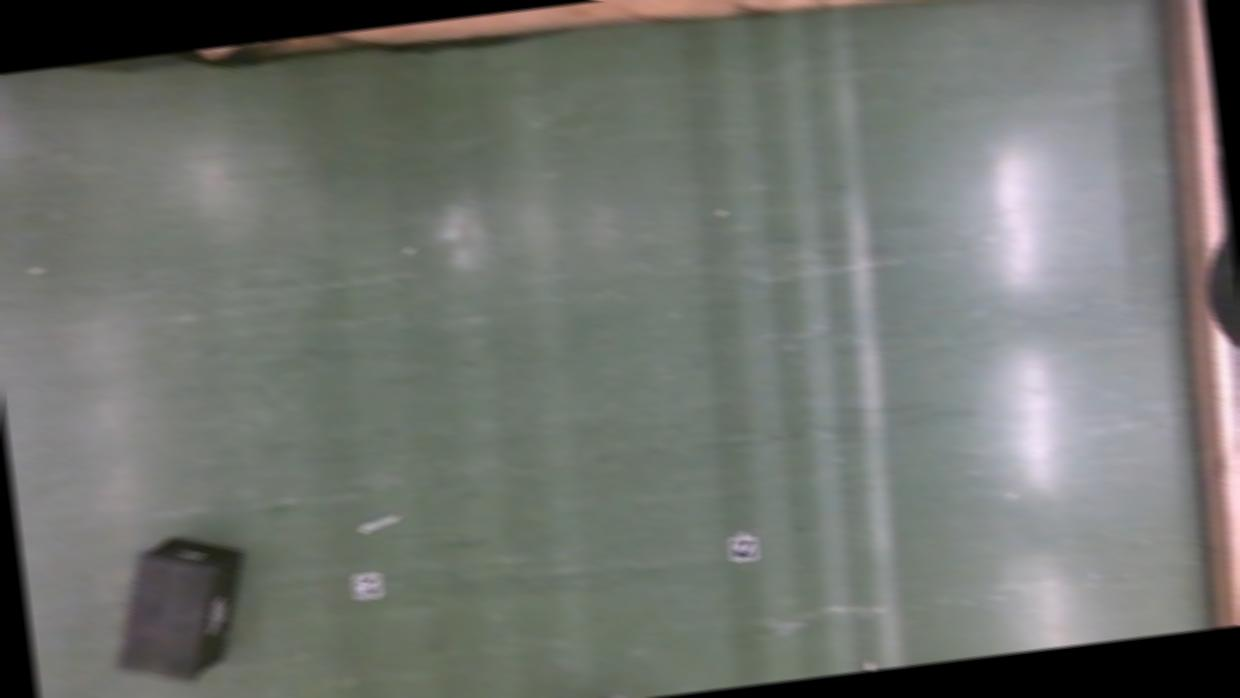probes: (360, 512, 402, 532), (860, 662, 878, 671)
rako: (102, 525, 258, 688)
